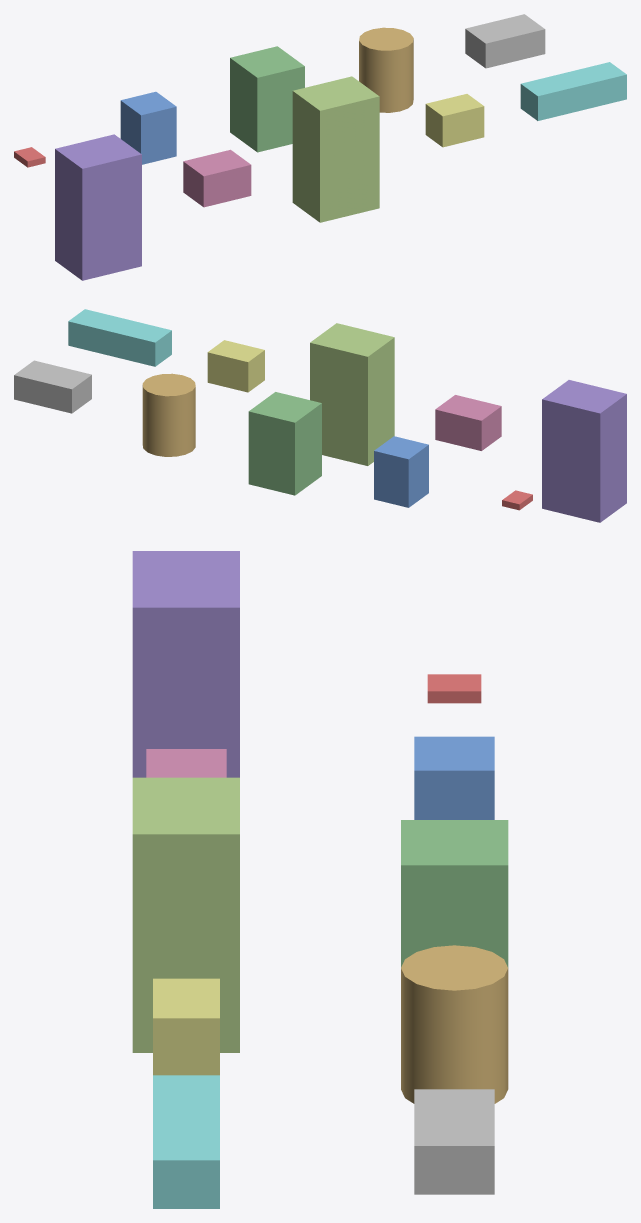
File: platelet_lab_template.gltf
3 renders of one model, top to bottom at view 1: azimuth 30°, elevation 25°; view 2: azimuth 150°, elevation 25°; view 3: azimuth 270°, elevation 25°, orthographic. The views are drawn at different scales.
Parts seen in each view (by area): view 1: testing_agitator, agitator, centrifuge, release, separator_macropress, platelet_washing, resting_trolly, macropress, labeling, buffy_coat_packs; view 2: agitator, testing_agitator, centrifuge, separator_macropress, release, platelet_washing, resting_trolly, macropress, labeling, buffy_coat_packs; view 3: testing_agitator, agitator, separator_macropress, centrifuge, release, resting_trolly, platelet_washing, labeling, macropress, buffy_coat_packs.
Boxes of the visible parts, <box> form: testing_agitator: <box>292,76,379,222</box>; agitator: <box>55,134,141,280</box>; centrifuge: <box>230,46,304,152</box>; release: <box>520,62,626,120</box>; separator_macropress: <box>359,27,413,112</box>; platelet_washing: <box>120,91,176,164</box>; resting_trolly: <box>465,14,545,68</box>; macropress: <box>183,149,251,207</box>; labeling: <box>425,94,484,147</box>; buffy_coat_packs: <box>14,147,45,167</box>; agitator: <box>542,380,626,522</box>; testing_agitator: <box>310,323,394,465</box>; centrifuge: <box>248,392,321,495</box>; separator_macropress: <box>142,373,195,456</box>; release: <box>68,309,171,366</box>; platelet_washing: <box>374,436,428,507</box>; resting_trolly: <box>14,360,91,413</box>; macropress: <box>435,395,501,450</box>; labeling: <box>207,340,264,392</box>; buffy_coat_packs: <box>502,490,532,510</box>; testing_agitator: <box>132,777,239,1052</box>; agitator: <box>132,551,239,777</box>; separator_macropress: <box>401,945,508,1103</box>; centrifuge: <box>401,820,508,967</box>; release: <box>153,1075,219,1208</box>; resting_trolly: <box>414,1089,494,1194</box>; platelet_washing: <box>414,736,494,819</box>; labeling: <box>153,978,219,1075</box>; macropress: <box>146,749,226,777</box>; buffy_coat_packs: <box>427,674,481,703</box>.
Bounding box in the file's own units: 9.25 × 1.8 × 2.8.
